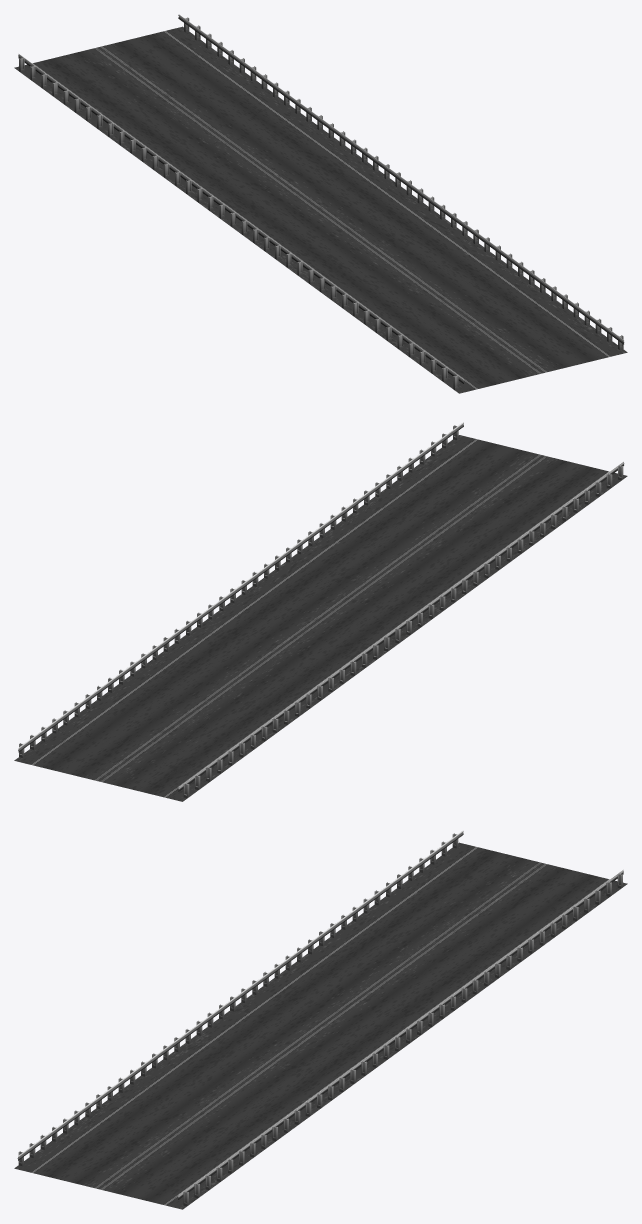
Rendered from maimi_street_straight_doubleGL.FBX.
The picture shows the model from 3 angles, top to bottom: view 1: azimuth 30°, elevation 25°; view 2: azimuth 150°, elevation 25°; view 3: azimuth 330°, elevation 25°; orthographic projection.
Parts seen in each view (by area): view 1: Plane002, Group001; view 2: Plane002, Group001; view 3: Plane002, Group001.
Boxes of the visible parts, bbox=[...] form: Plane002: bbox=[14, 26, 627, 393]; Group001: bbox=[18, 14, 624, 390]; Plane002: bbox=[14, 435, 627, 801]; Group001: bbox=[18, 422, 624, 798]; Plane002: bbox=[14, 842, 627, 1209]; Group001: bbox=[17, 830, 623, 1206].
Size of the model in its own units: 350 by 27 by 1601.
